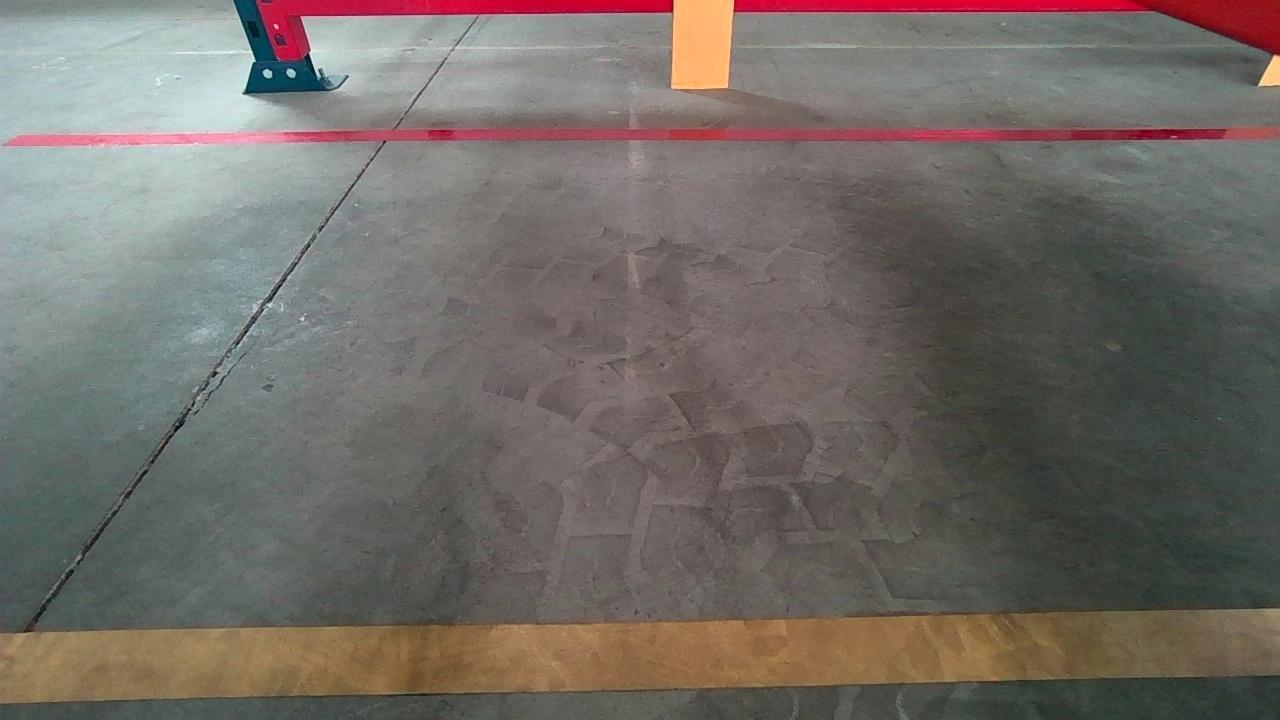orange_strip: (671, 0, 733, 87)
red_line: (3, 127, 1280, 147)
